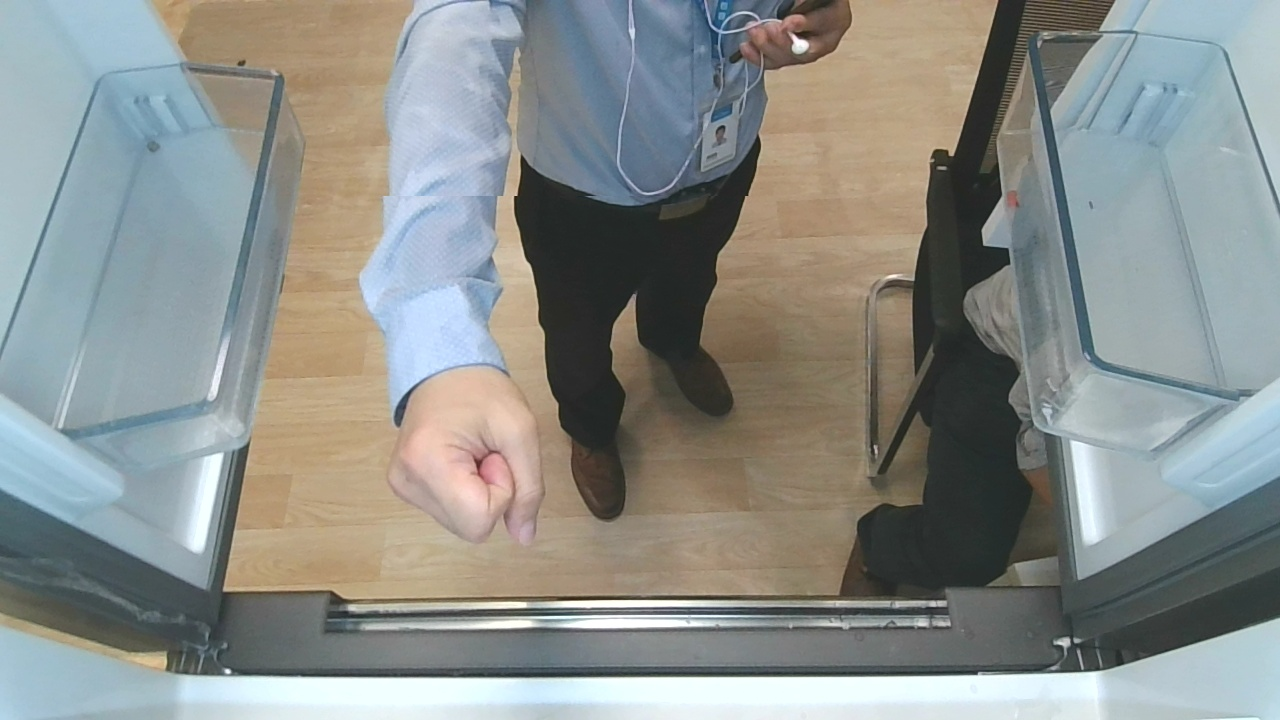hand: (399, 382, 548, 546)
